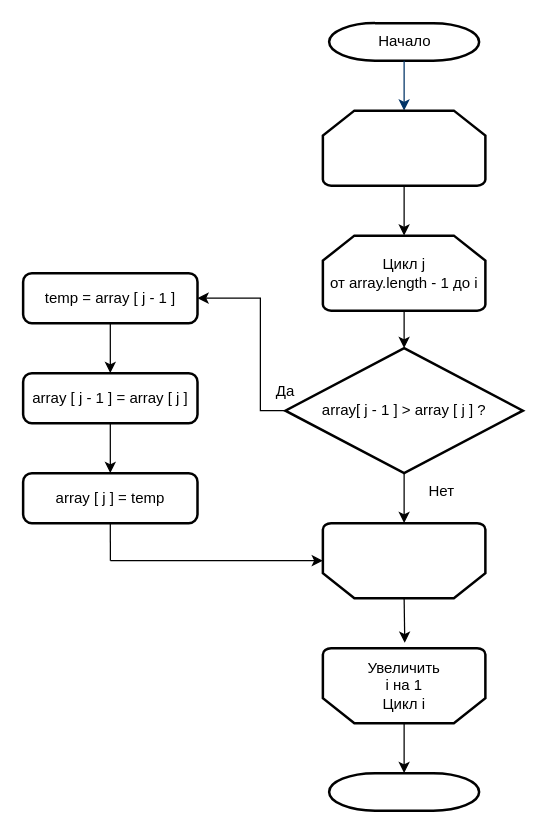
This 545x833 diagram has some shape labels left out. The shapes that lost their labels are listed below. From the top down, each one's centre as x and y in pixels, then its label:
the point at 403,147: Цикл i от 0 до array.length -1
the point at 403,560: Уменьшить j на 1 Цикл j
the point at 403,791: Конец
